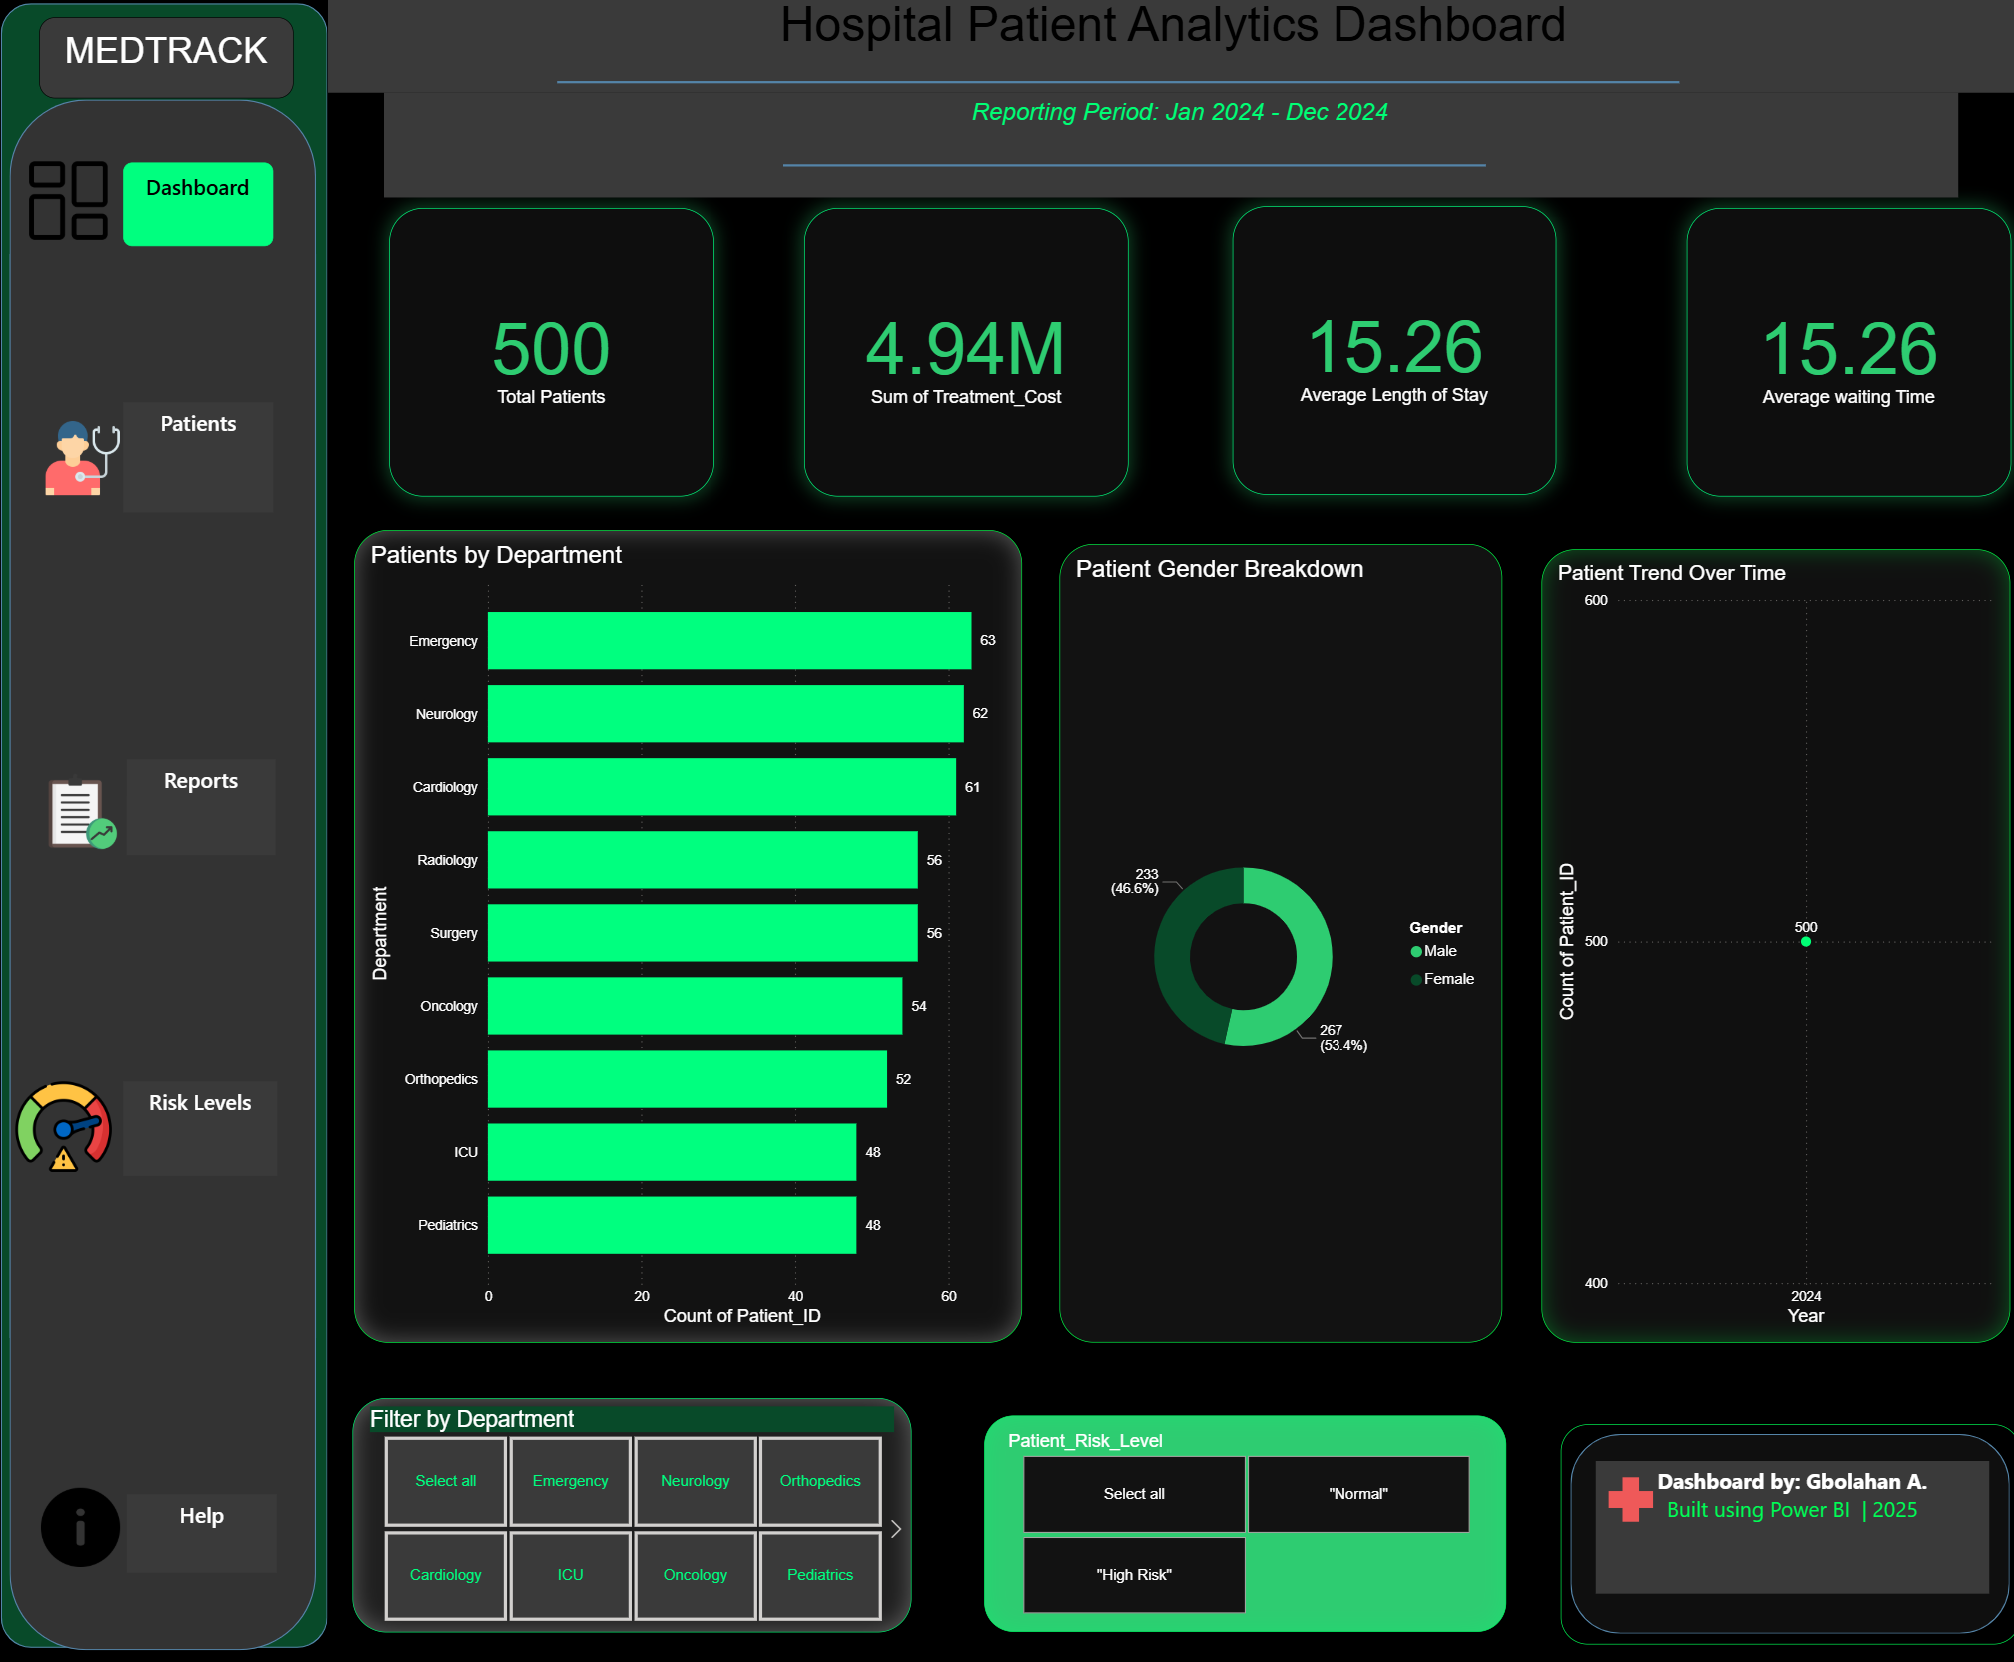

This screenshot's page, from the dashboard's own definition file:
{"tool":"powerbi","page":{"name":"Dashboard","canvas":[1800,1502],"ordinal":0},"visuals":[{"type":"card","title":"Total Patients","fields":{"Values":["Sheet1.Total Patients"]},"box":[352,192,288,256],"z":0},{"type":"card","title":"Total Patients","fields":{"Values":["Sum(Sheet1.Treatment_Cost)"]},"box":[720,192,288,256],"z":1000},{"type":"card","title":"Total Patients","fields":{"Values":["Sheet1.Average waiting Time"]},"box":[1504,192,288,256],"z":2000},{"type":"card","title":"Total Patients","fields":{"Values":["Sheet1.Average Length of Stay"]},"box":[1100.3,190.8,288,256],"z":3000},{"type":"barChart","title":"Patients by Department","fields":{"Category":["Sheet1.Department"],"Y":["CountNonNull(Sheet1.Patient_ID)"]},"box":[321,477.6,592.4,721.1],"z":4000},{"type":"donutChart","title":" Patient Gender Breakdown","fields":{"Category":["Sheet1.Gender"],"Y":["CountNonNull(Sheet1.Patient_ID)"]},"box":[947.5,490,393.9,708.7],"z":5000},{"type":"lineChart","title":"Patient Trend Over Time","fields":{"Category":["Sheet1.Admission_Date.Variation.Date Hierarchy.Year","Sheet1.Admission_Date.Variation.Date Hierarchy.Month"],"Y":["CountNonNull(Sheet1.Patient_ID)"]},"box":[1376,496,416,704],"z":6000},{"type":"slicer","fields":{"Values":["Sheet1.Department"]},"box":[320,1248,496,208],"z":7000},{"type":"slicer","fields":{"Values":["Sheet1.Patient_Risk_Level"]},"box":[880,1264,464,192],"z":8000},{"type":"textbox","box":[297.6,0,1501.5,90.4],"z":9000},{"type":"textbox","box":[348.1,90.4,1397.8,93],"z":10000},{"type":"shape","box":[502.3,45.2,996.6,71.8],"z":11000},{"type":"shape","box":[701.6,95.7,624.5,116.9],"z":12000},{"type":"shape","box":[7.8,10.9,290,1459.2],"z":13000},{"type":"textbox","box":[64,16,224,80],"z":14000},{"type":"shape","box":[16,96,272,1376],"z":15000},{"type":"image","box":[18.6,146.2,98.3,80],"z":16000},{"type":"textbox","box":[116.9,151.5,132.9,74.4],"z":17000},{"type":"textbox","box":[116.3,364.4,133.4,97.7],"z":18000},{"type":"image","box":[32,688,96,80],"z":19000},{"type":"textbox","box":[119.4,682.3,131.8,85.3],"z":20000},{"type":"image","box":[16,960,96,96],"z":21000},{"type":"textbox","box":[116.3,967.7,136.5,83.7],"z":22000},{"type":"image","box":[0,1322.8,156.6,80.6],"z":23000},{"type":"textbox","box":[119.4,1333.6,133.4,69.8],"z":24000},{"type":"image","box":[31,373.7,99.2,80.6],"z":25000},{"type":"shape","box":[1392.6,1271.6,407.8,195.4],"z":26000},{"type":"textbox","box":[1423.6,1304.2,348.9,117.9],"z":27000},{"type":"image","box":[1423.6,1313.5,62,49.6],"z":28000},{"type":"image","box":[0,0,80,112],"z":28001}]}

Visuals, with their boxes on the page's 1800x1502 design canvas (x1, y1, x2, y2). These are canvas units, not pixel positions in the 2014x1662 screenshot, which may show the page scaled, cropped or inside an application window:
"Total Patients" card: [352, 192, 640, 448]
"Total Patients" card: [720, 192, 1008, 448]
"Total Patients" card: [1504, 192, 1792, 448]
"Total Patients" card: [1100, 191, 1388, 447]
"Patients by Department" barChart: [321, 478, 913, 1199]
" Patient Gender Breakdown" donutChart: [948, 490, 1341, 1199]
"Patient Trend Over Time" lineChart: [1376, 496, 1792, 1200]
slicer - Sheet1.Department: [320, 1248, 816, 1456]
slicer - Sheet1.Patient_Risk_Level: [880, 1264, 1344, 1456]
textbox: [298, 0, 1799, 90]
textbox: [348, 90, 1746, 183]
shape: [502, 45, 1499, 117]
shape: [702, 96, 1326, 213]
shape: [8, 11, 298, 1470]
textbox: [64, 16, 288, 96]
shape: [16, 96, 288, 1472]
image: [19, 146, 117, 226]
textbox: [117, 152, 250, 226]
textbox: [116, 364, 250, 462]
image: [32, 688, 128, 768]
textbox: [119, 682, 251, 768]
image: [16, 960, 112, 1056]
textbox: [116, 968, 253, 1051]
image: [0, 1323, 157, 1403]
textbox: [119, 1334, 253, 1403]
image: [31, 374, 130, 454]
shape: [1393, 1272, 1800, 1467]
textbox: [1424, 1304, 1772, 1422]
image: [1424, 1314, 1486, 1363]
image: [0, 0, 80, 112]
